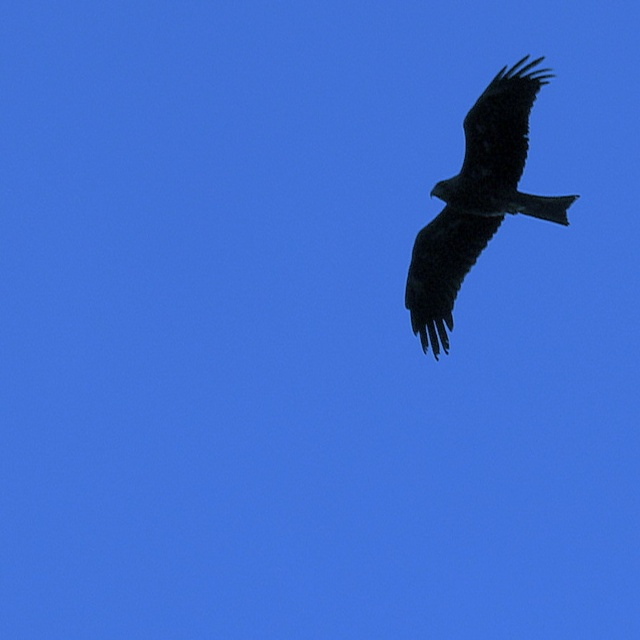Eagle: (405, 54, 581, 363)
